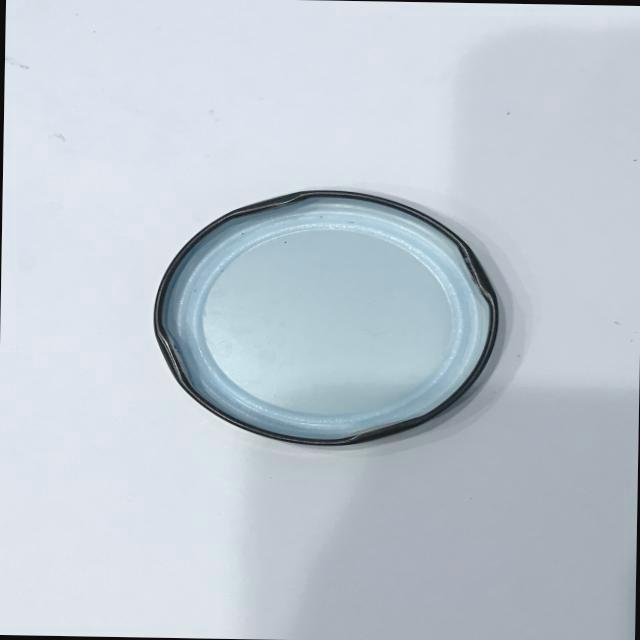metal: (134, 176, 517, 469)
